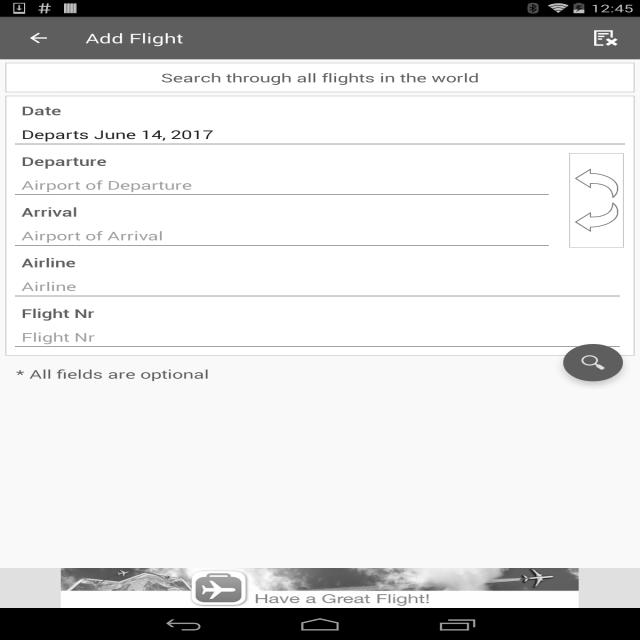EditText: (11, 122, 629, 150), (11, 274, 624, 302), (11, 325, 624, 352), (11, 223, 553, 251), (11, 173, 553, 200)
ImageButton: (550, 336, 636, 389), (9, 17, 68, 59)
ImageView: (61, 568, 578, 608), (569, 153, 624, 248)
TextView: (5, 63, 635, 92), (5, 362, 635, 386), (11, 99, 629, 122), (11, 251, 624, 274), (11, 302, 624, 324), (11, 200, 564, 223), (11, 150, 564, 172), (85, 29, 184, 47), (580, 22, 632, 54)
